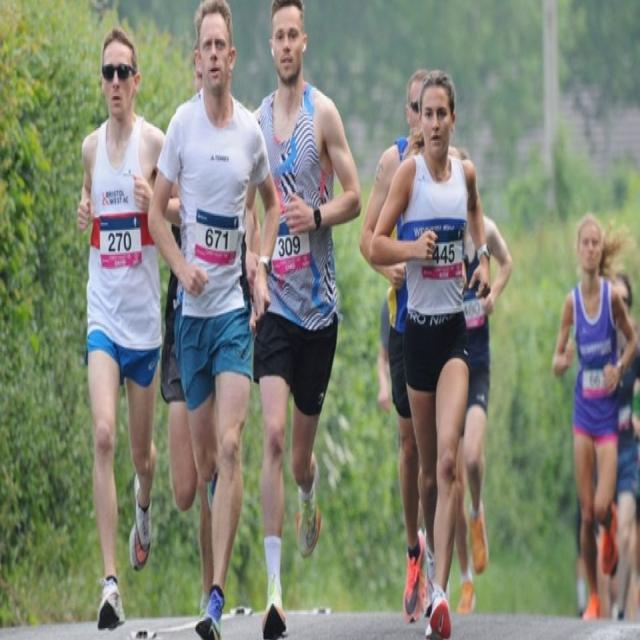Person: (147, 0, 281, 640), (234, 0, 363, 640), (367, 67, 489, 640), (76, 26, 166, 630), (552, 212, 637, 620)
